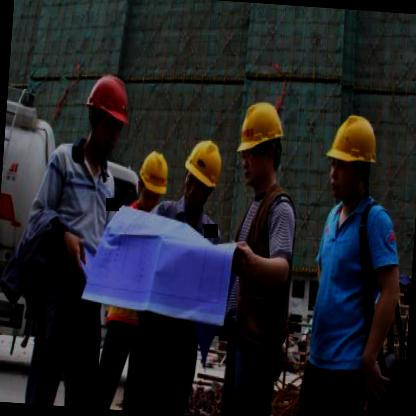helmet: (322, 106, 384, 213), (232, 92, 292, 198), (77, 66, 139, 162), (179, 132, 226, 217), (134, 144, 173, 212)
